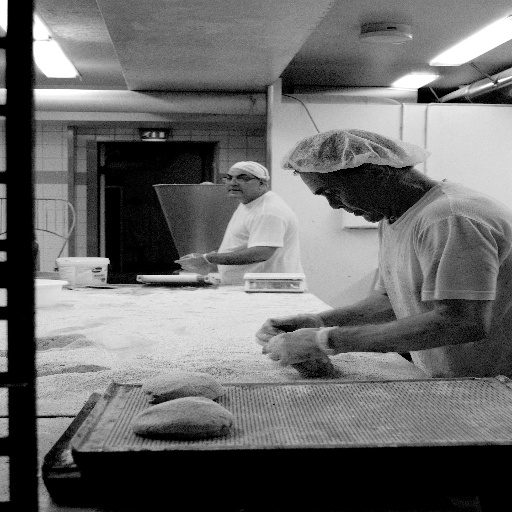hand: (268, 322, 353, 374), (253, 310, 324, 345), (174, 254, 212, 268), (179, 252, 203, 256)
